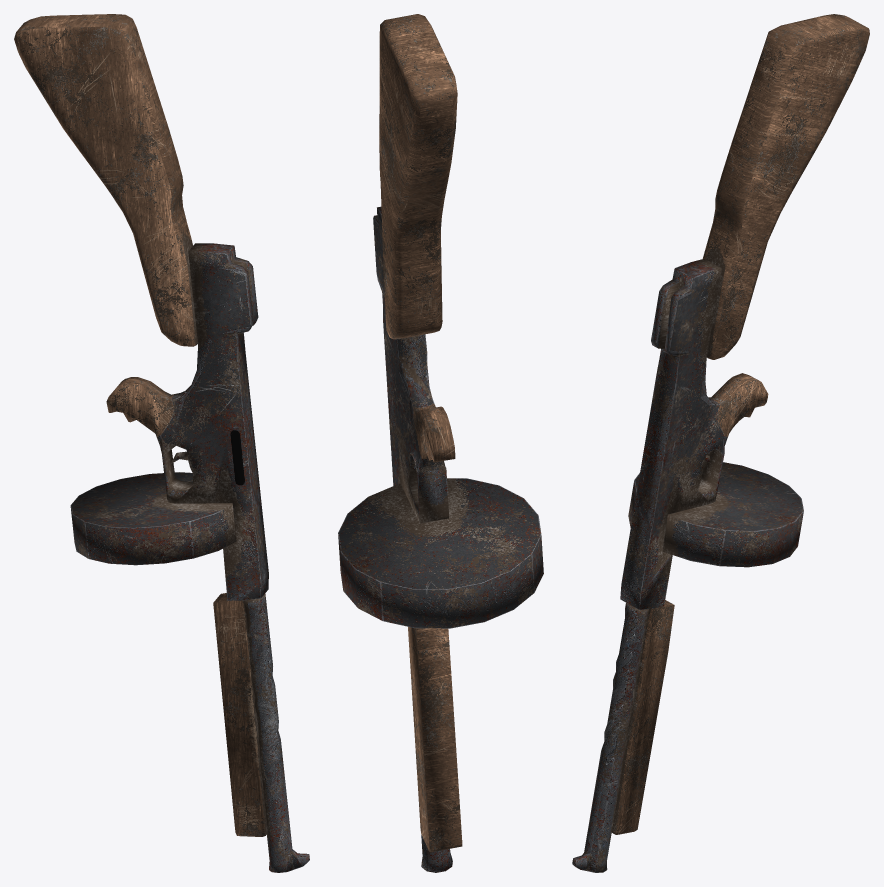
File: Anim_idle_ametralladora_objetos.0054.obj
3 views of the same model, side by side, from view 1: azimuth 30°, elevation 25°; view 2: azimuth 150°, elevation 25°; view 3: azimuth 270°, elevation 25° (orthographic). The views are drawn at different scales.
Parts seen in each view (by area): view 1: Ametralladora1; view 2: Ametralladora1; view 3: Ametralladora1.
Boxes of the visible parts, x1,y1,x2,y2 form: Ametralladora1: [14, 14, 309, 872]; Ametralladora1: [338, 14, 543, 872]; Ametralladora1: [572, 14, 869, 872].
Size of the model in its own units: 1.24 by 5.89 by 1.98.
